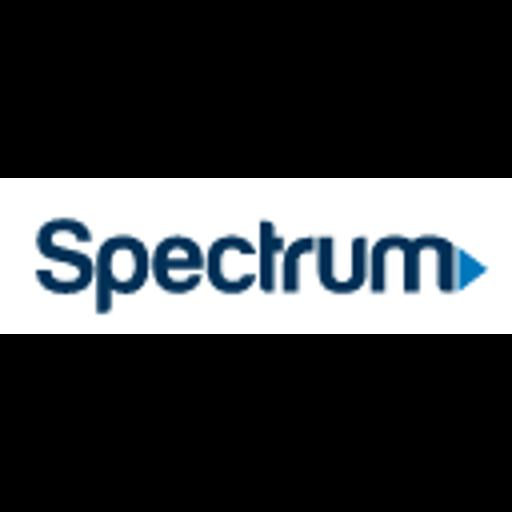Spectrum: (0, 178, 512, 334)
